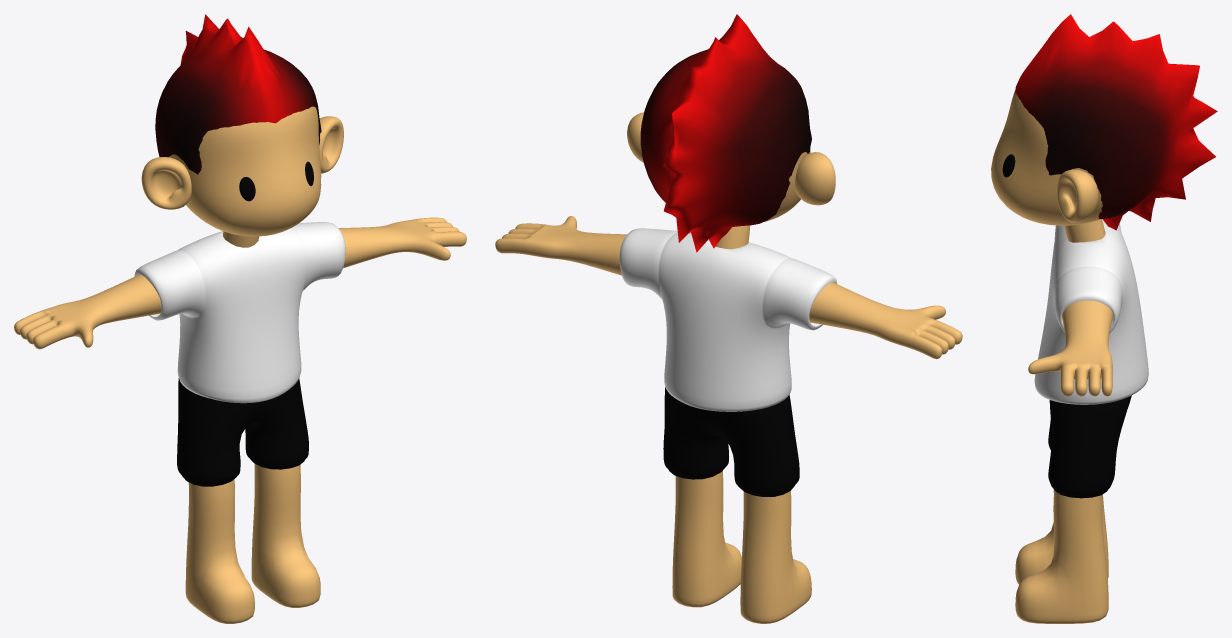
Rendered from character.fbx.
3 renders of one model, left to right at view 1: azimuth 30°, elevation 25°; view 2: azimuth 150°, elevation 25°; view 3: azimuth 270°, elevation 25°, orthographic. The views are drawn at different scales.
Visible parts, largest first — view 1: Cube, Cube.003, Hair, Head, Cube.002, Cube.001, Ears; view 2: Hair, Cube, Cube.003, Cube.002, Cube.001, Ears, Head; view 3: Hair, Cube, Cube.003, Head, Cube.002, Cube.001, Ears.
Part boxes in pixels (bbox=[...]): Cube: bbox=[134, 222, 345, 403]; Cube.003: bbox=[185, 464, 320, 623]; Hair: bbox=[155, 14, 321, 174]; Head: bbox=[169, 106, 321, 247]; Cube.002: bbox=[177, 378, 308, 486]; Cube.001: bbox=[14, 217, 466, 349]; Ears: bbox=[141, 116, 343, 209]; Hair: bbox=[640, 14, 811, 252]; Cube: bbox=[619, 228, 837, 411]; Cube.003: bbox=[672, 471, 811, 623]; Cube.002: bbox=[663, 387, 799, 496]; Cube.001: bbox=[495, 216, 962, 359]; Ears: bbox=[627, 112, 835, 205]; Head: bbox=[715, 150, 810, 249]; Hair: bbox=[1015, 14, 1217, 230]; Cube: bbox=[1034, 219, 1148, 404]; Cube.003: bbox=[1015, 489, 1108, 623]; Head: bbox=[991, 90, 1105, 242]; Cube.002: bbox=[1048, 395, 1131, 498]; Cube.001: bbox=[1028, 300, 1113, 396]; Ears: bbox=[1057, 169, 1098, 222].
Size of the model in its own units: 140 by 177 by 62.05.
